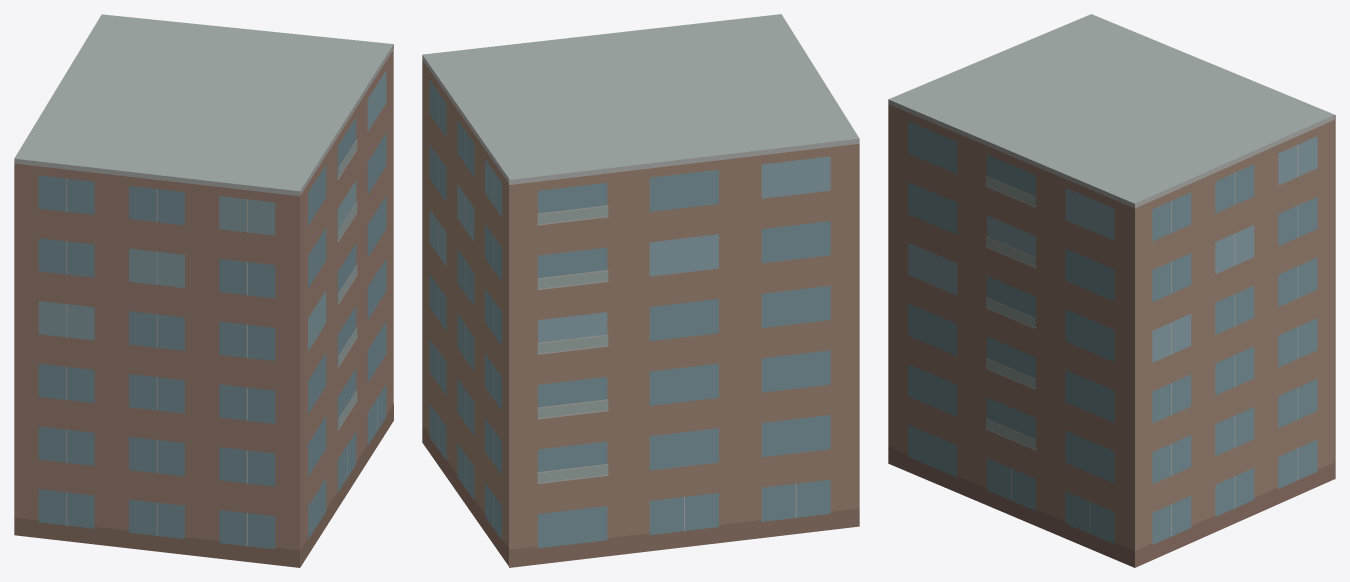
File: survey-upis-32650026.glb
The picture shows the model from 3 angles, left to right: view 1: azimuth 30°, elevation 25°; view 2: azimuth 150°, elevation 25°; view 3: azimuth 270°, elevation 25°; orthographic projection. The views are drawn at different scales.
Visible parts, largest first — view 1: survey-upis-32650026.tmp; view 2: survey-upis-32650026.tmp; view 3: survey-upis-32650026.tmp.
Boxes of the visible parts, left/top/right/bottom form: survey-upis-32650026.tmp: left=14, top=14, right=393, bottom=567; survey-upis-32650026.tmp: left=422, top=14, right=859, bottom=567; survey-upis-32650026.tmp: left=888, top=14, right=1335, bottom=567.
Bounding box in the file's own units: 20.91 × 18.7 × 20.83.
